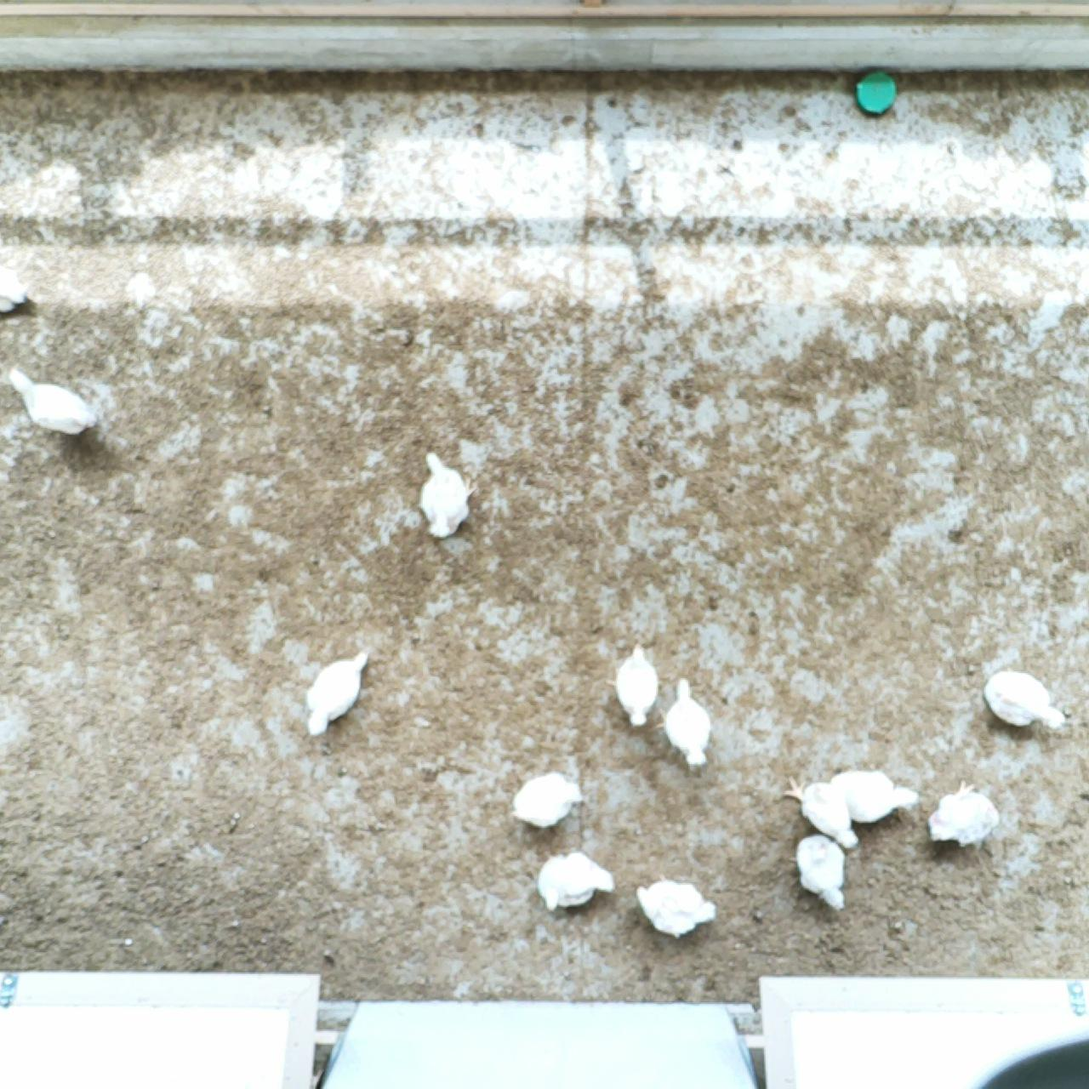chicken: (1, 360, 100, 445), (301, 642, 372, 738), (782, 764, 859, 849), (415, 445, 479, 542), (534, 847, 623, 916), (632, 872, 723, 938), (982, 666, 1067, 733), (663, 671, 717, 768), (929, 779, 999, 852), (829, 767, 919, 822), (793, 827, 848, 913), (511, 766, 583, 831), (612, 636, 663, 726), (0, 259, 32, 315)
